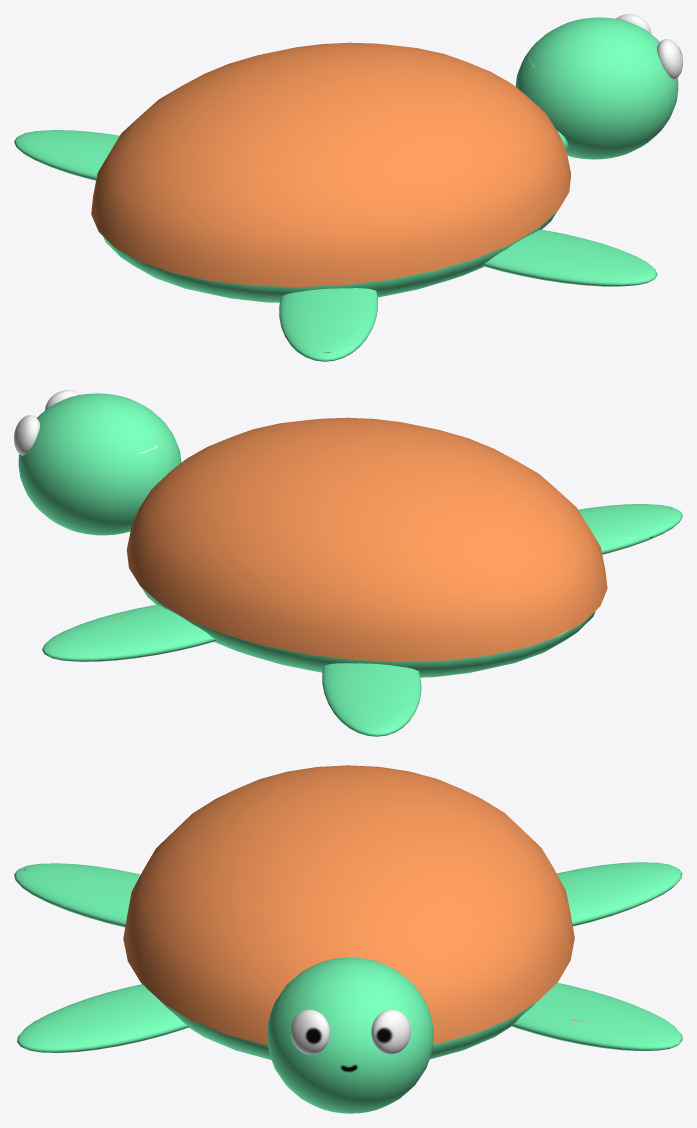
The model's file is Turtle.gltf.
3 views of the same model, one above another, from view 1: azimuth 30°, elevation 25°; view 2: azimuth 150°, elevation 25°; view 3: azimuth 270°, elevation 25° (orthographic). The views are drawn at different scales.
Parts seen in each view (by area): view 1: shell, head, R-front, R_back, m-body, L_back, R-eye; view 2: shell, head, L_front, L_back, m-body, R_back, L-eye; view 3: shell, head, R-front, L_front, R_back, L_back, m-body, R-eye, L-eye.
Boxes of the visible parts, x1,y1,x2,y2 form: shell: (91, 42, 570, 287); head: (515, 17, 678, 159); R-front: (482, 229, 657, 286); R_back: (279, 288, 377, 361); m-body: (103, 212, 556, 302); L_back: (14, 130, 119, 180); R-eye: (657, 39, 682, 79); shell: (126, 417, 607, 661); head: (18, 393, 181, 535); L_front: (42, 604, 216, 661); L_back: (322, 663, 421, 736); m-body: (141, 587, 595, 677); R_back: (578, 504, 682, 554); L-eye: (14, 415, 39, 455); shell: (123, 765, 574, 1044); head: (267, 957, 433, 1113); R-front: (17, 984, 188, 1052); L_front: (511, 983, 682, 1050); R_back: (14, 863, 140, 927); L_back: (557, 862, 682, 926); m-body: (145, 987, 535, 1059); R-eye: (290, 1009, 330, 1054); L-eye: (371, 1009, 410, 1054).
Bounding box in the file's own units: 3.08 × 0.9523 × 2.96.
Materials: 1 (1 with a texture image).
